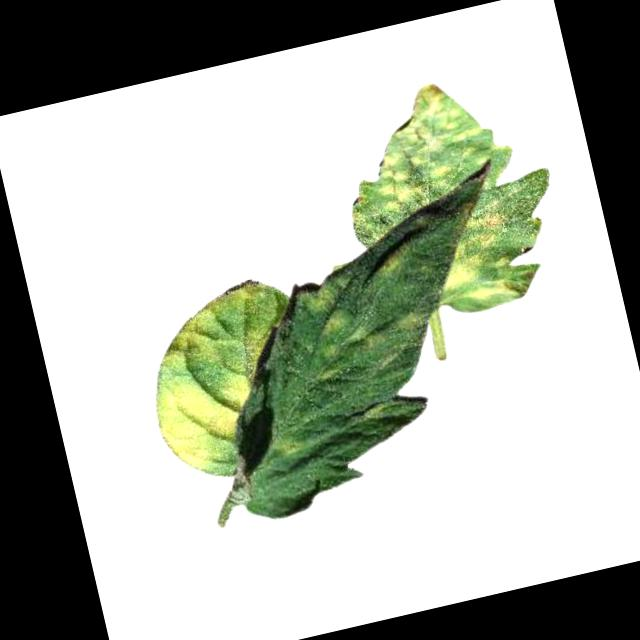Leaf_Mold: (353, 72, 498, 219), (142, 278, 276, 379), (148, 365, 266, 475), (424, 199, 524, 314), (313, 305, 386, 361), (366, 239, 417, 279), (297, 282, 342, 320), (264, 418, 304, 460), (392, 305, 430, 340)
